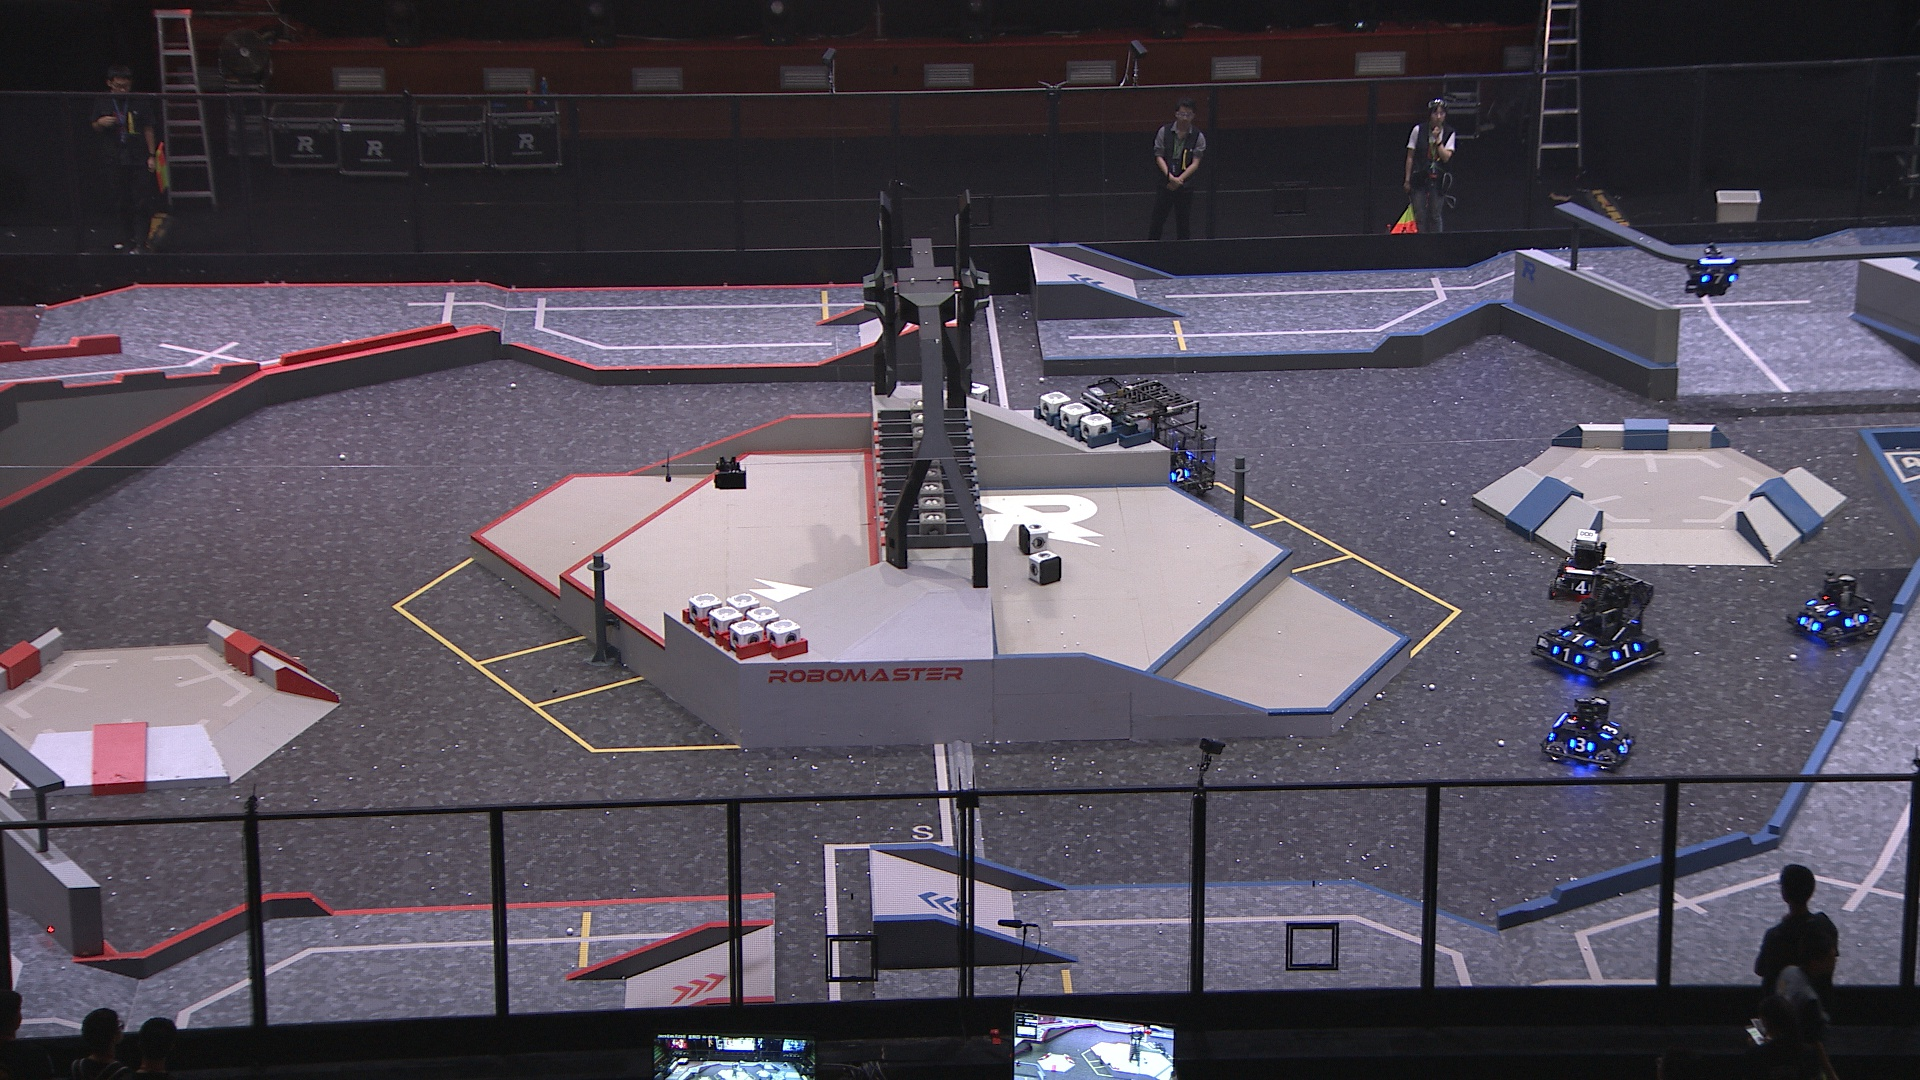armor: (1560, 626, 1589, 647), (1807, 595, 1836, 616), (1553, 642, 1580, 665), (1611, 642, 1643, 659), (1596, 721, 1618, 744), (1702, 272, 1737, 286), (1569, 737, 1594, 754), (1571, 580, 1593, 597), (1797, 615, 1820, 632), (1844, 613, 1866, 626), (1171, 469, 1191, 483), (1615, 736, 1629, 756)
car: (1081, 371, 1215, 495), (1532, 570, 1664, 680), (1787, 570, 1884, 642), (1542, 695, 1634, 769), (1545, 527, 1625, 603)
watcher: (1684, 243, 1746, 299)
